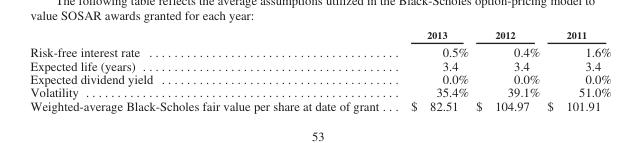table: (29, 28, 610, 112)
table column: (29, 28, 394, 112), (394, 28, 471, 112), (471, 28, 542, 112), (542, 28, 610, 112)
table column header: (29, 28, 610, 42)
table row: (29, 42, 610, 58), (29, 28, 610, 42), (29, 58, 610, 72), (29, 98, 610, 112), (29, 72, 610, 85), (29, 85, 610, 98)
